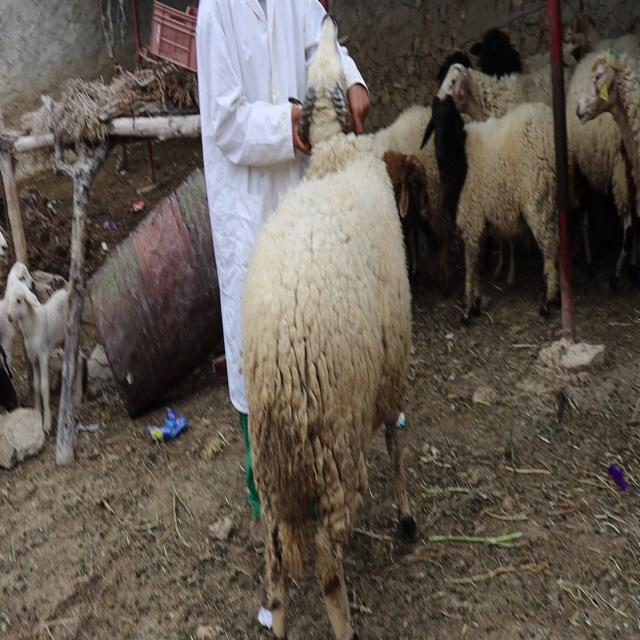Score_5: (242, 16, 414, 639)
